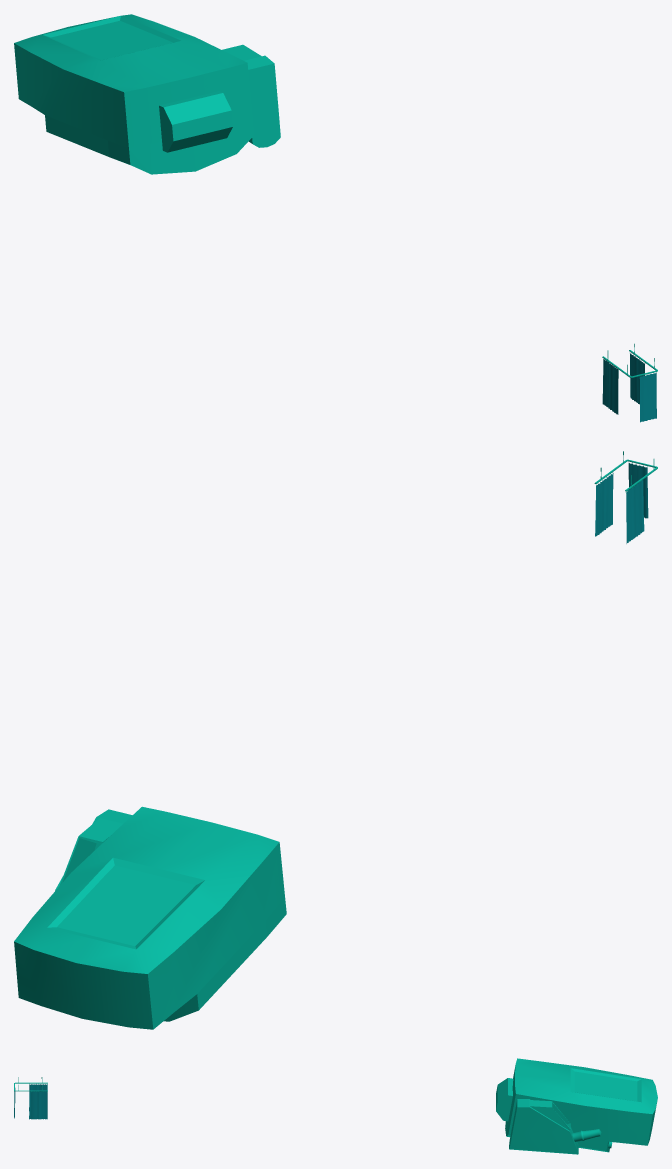
Rendered from Curtains.fbx.
3 renders of one model, top to bottom at view 1: azimuth 30°, elevation 25°; view 2: azimuth 150°, elevation 25°; view 3: azimuth 270°, elevation 25°, orthographic. The views are drawn at different scales.
Parts seen in each view (by area): view 1: Screen, F_Curtain, L_Curtain; view 2: Screen, L_Curtain, R_Curtain; view 3: Screen, R_Curtain.
Part boxes in pixels (x1,y1,x2,y2): Screen: (14,14,280,174); F_Curtain: (639,373,656,422); L_Curtain: (602,359,618,414); Screen: (14,806,286,1029); L_Curtain: (626,480,644,543); R_Curtain: (595,473,613,536); Screen: (496,1058,657,1154); R_Curtain: (29,1092,47,1119).
Bounding box in the file's own units: 2402 × 1796 × 13971.
